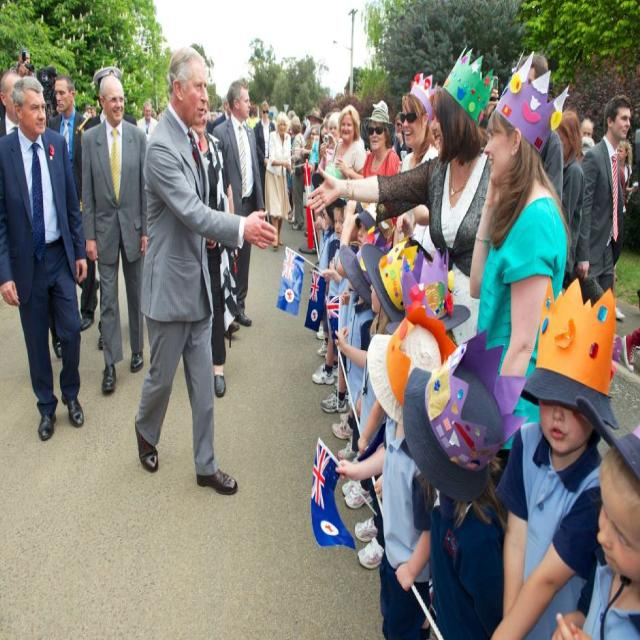body: (310, 302, 458, 640), (466, 45, 576, 492), (490, 273, 622, 640), (132, 45, 238, 497), (305, 44, 493, 287), (402, 361, 520, 640), (0, 77, 89, 443), (0, 68, 84, 364), (80, 72, 149, 395), (551, 408, 640, 640), (354, 244, 417, 571), (332, 242, 406, 511), (79, 72, 150, 351), (210, 76, 268, 337), (189, 85, 237, 400), (46, 73, 100, 333), (320, 197, 378, 415), (332, 198, 377, 462), (579, 92, 632, 311), (392, 70, 439, 260), (516, 49, 565, 207), (399, 246, 472, 348), (311, 196, 348, 385), (552, 105, 586, 291), (264, 111, 292, 250), (357, 106, 401, 180), (316, 200, 335, 357), (331, 103, 368, 180), (254, 100, 276, 226), (287, 114, 305, 231), (615, 139, 640, 215), (391, 110, 414, 162), (315, 120, 334, 172), (136, 100, 159, 139), (580, 114, 601, 153), (624, 326, 640, 369), (212, 93, 231, 127), (318, 119, 329, 162), (306, 108, 322, 137), (13, 50, 32, 69), (313, 202, 326, 226), (248, 102, 261, 123), (208, 108, 223, 126), (84, 101, 98, 118), (286, 200, 294, 226), (152, 107, 165, 121), (286, 105, 297, 120), (304, 135, 312, 154), (298, 120, 306, 135), (268, 118, 276, 132), (331, 106, 342, 114), (322, 110, 330, 120)
